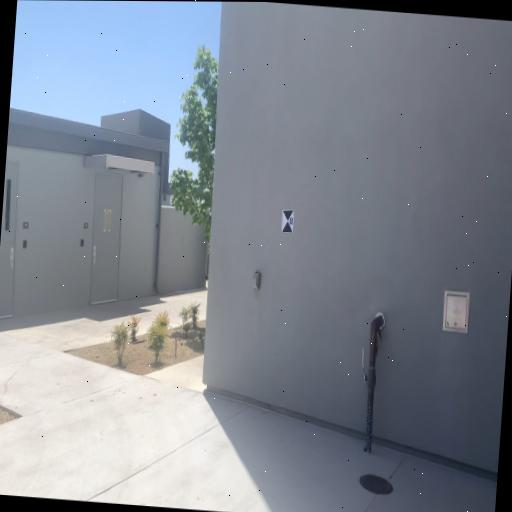target8: (280, 210, 295, 234)
